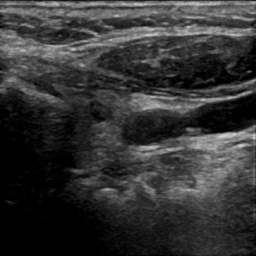mass: (92, 88, 125, 111)
